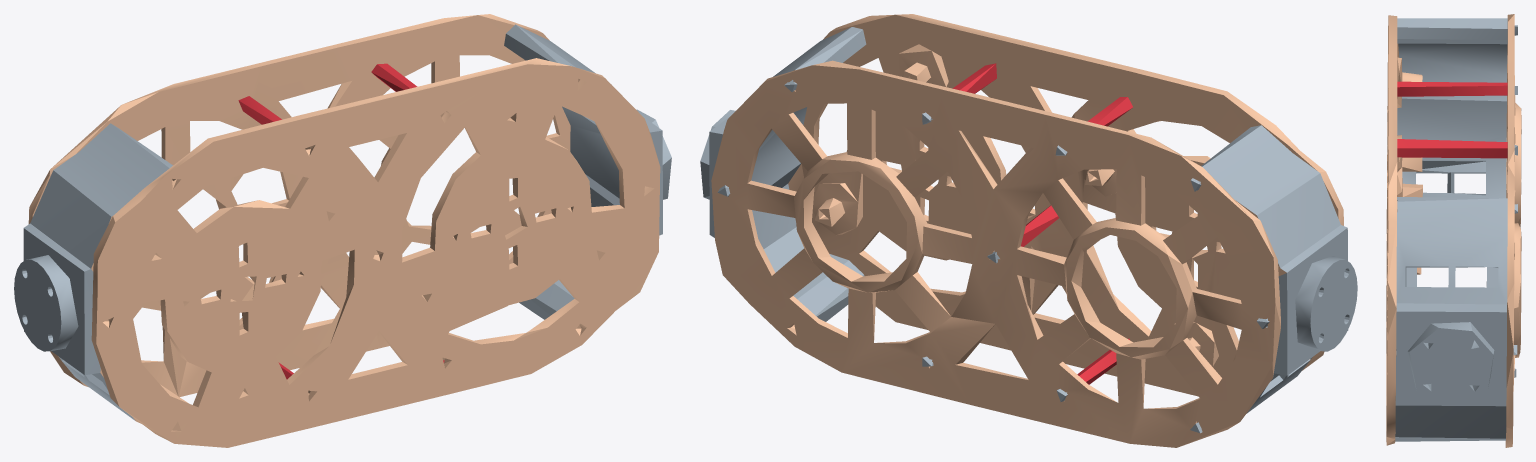
3 views of the same model, side by side, from view 1: azimuth 30°, elevation 25°; view 2: azimuth 150°, elevation 25°; view 3: azimuth 270°, elevation 25° (orthographic). The views are drawn at different scales.
Parts seen in each view (by area): view 1: tmp_export_bl_link0; view 2: tmp_export_bl_link0; view 3: tmp_export_bl_link0.
Part boxes in pixels (x1,y1,x2,y2): tmp_export_bl_link0: (14,14,671,447); tmp_export_bl_link0: (700,14,1357,447); tmp_export_bl_link0: (1386,14,1521,447).
Size of the model in its own units: 0.1858 by 0.0391 by 0.0903.
